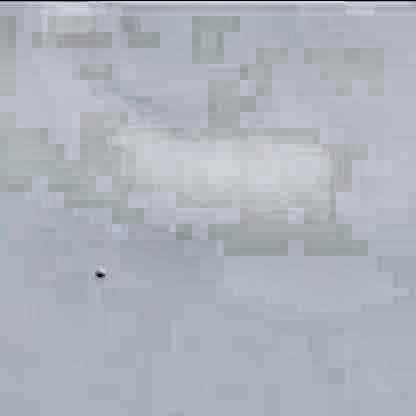golfball: (93, 262, 104, 275)
